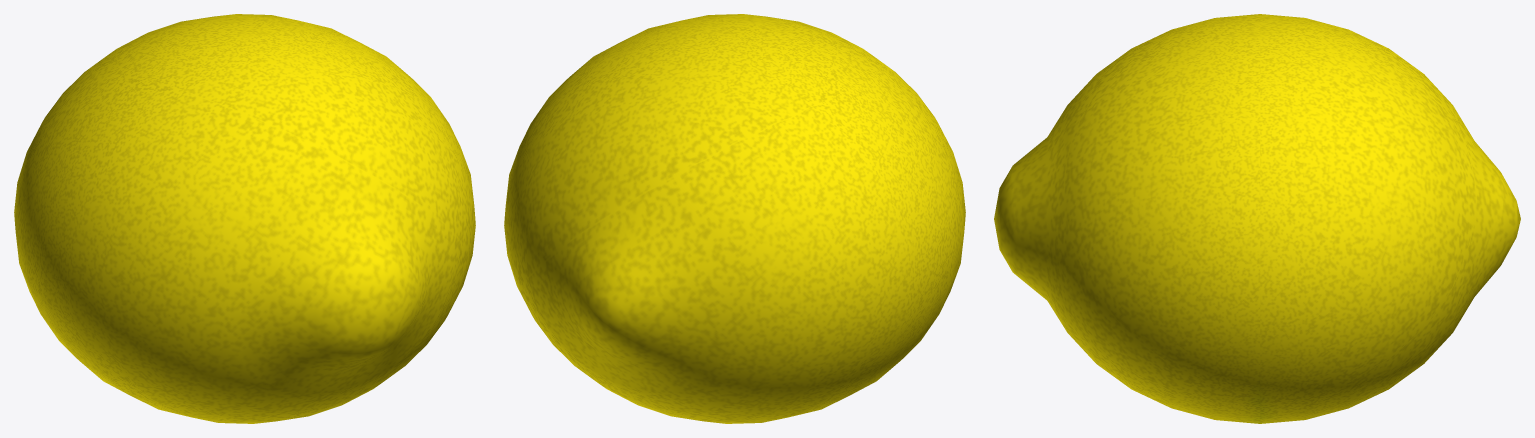
File: limone.fbx
3 views of the same model, side by side, from view 1: azimuth 30°, elevation 25°; view 2: azimuth 150°, elevation 25°; view 3: azimuth 270°, elevation 25° (orthographic).
Parts seen in each view (by area): view 1: limone; view 2: limone; view 3: limone.
Part boxes in pixels (<box>): limone: <box>14,14,475,423</box>; limone: <box>504,14,965,423</box>; limone: <box>994,14,1520,423</box>.
Size of the model in its own units: 9.37 by 8.08 by 10.65.
